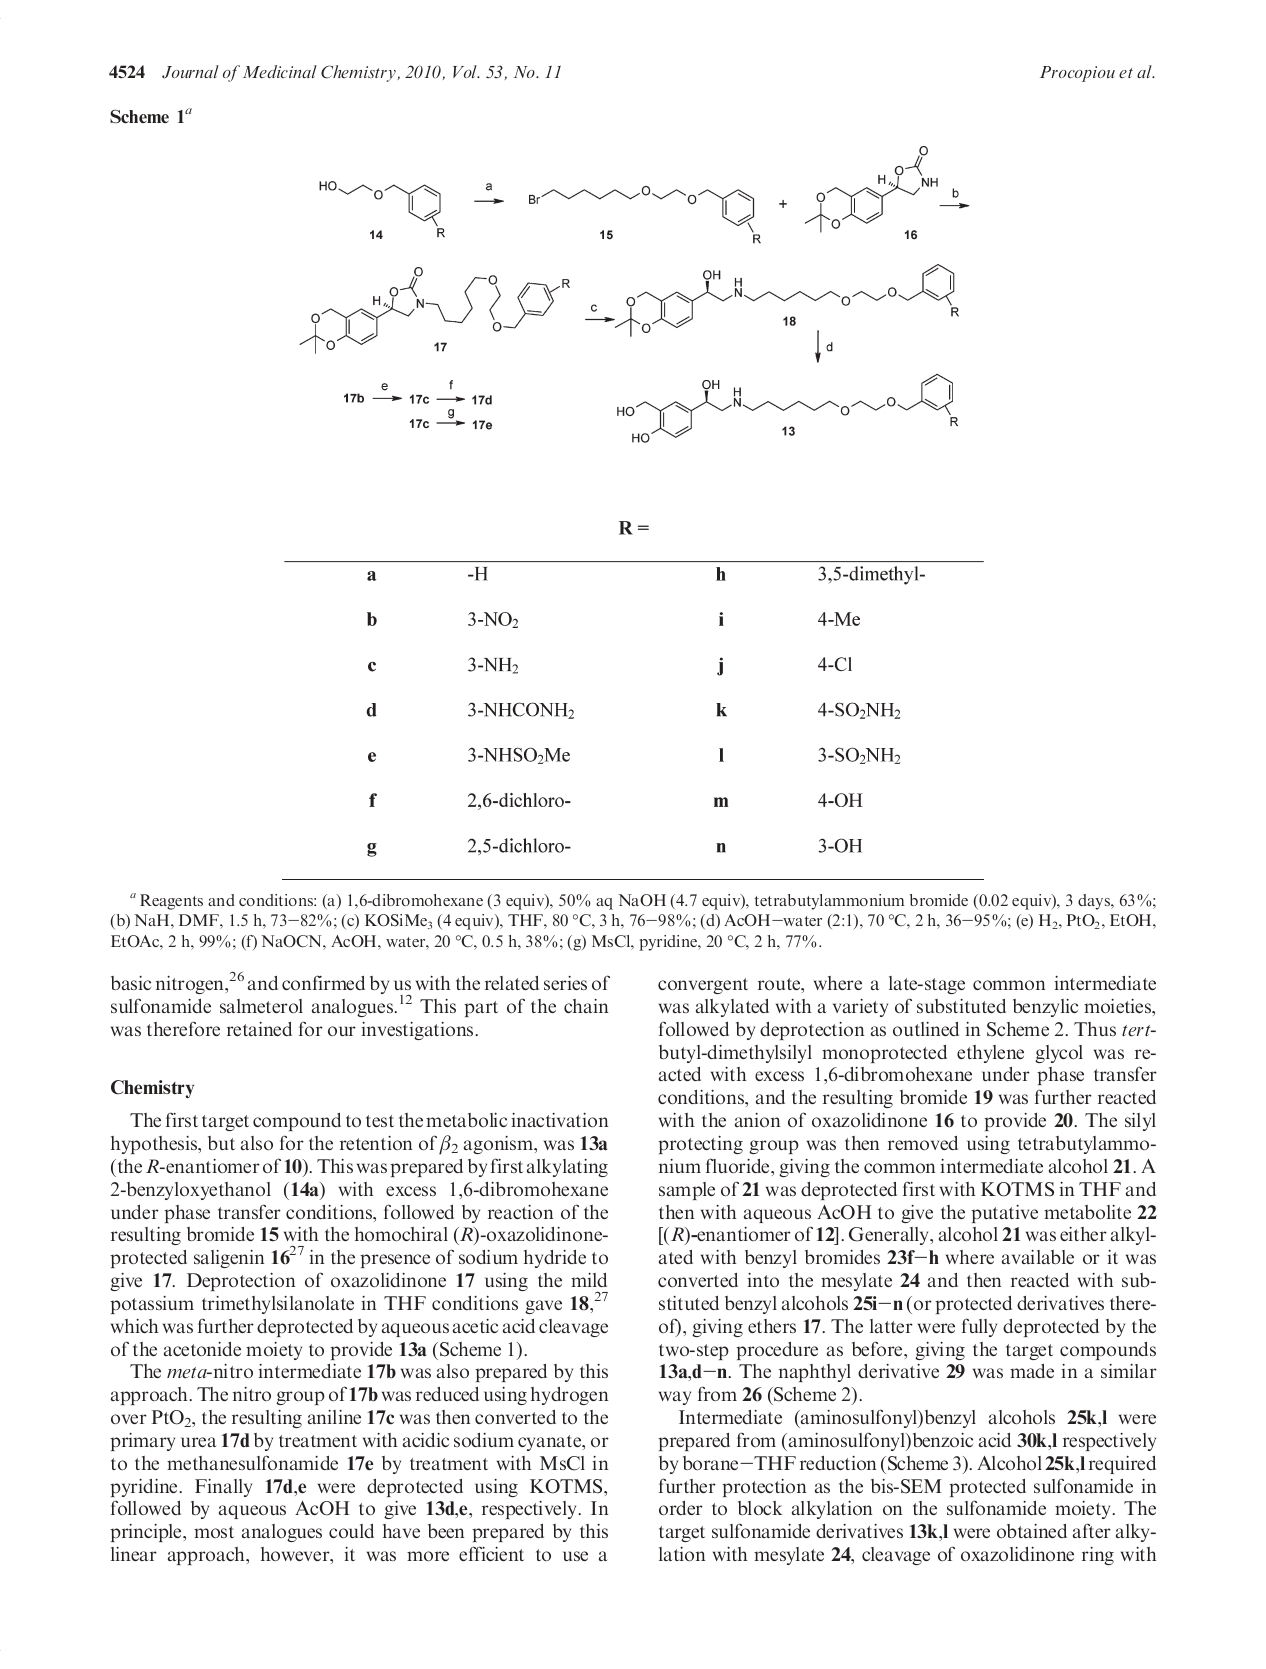exist_molecular: (614, 259, 963, 339), (616, 371, 959, 444), (299, 265, 572, 354), (527, 184, 765, 245), (805, 141, 939, 231), (318, 173, 449, 243)
